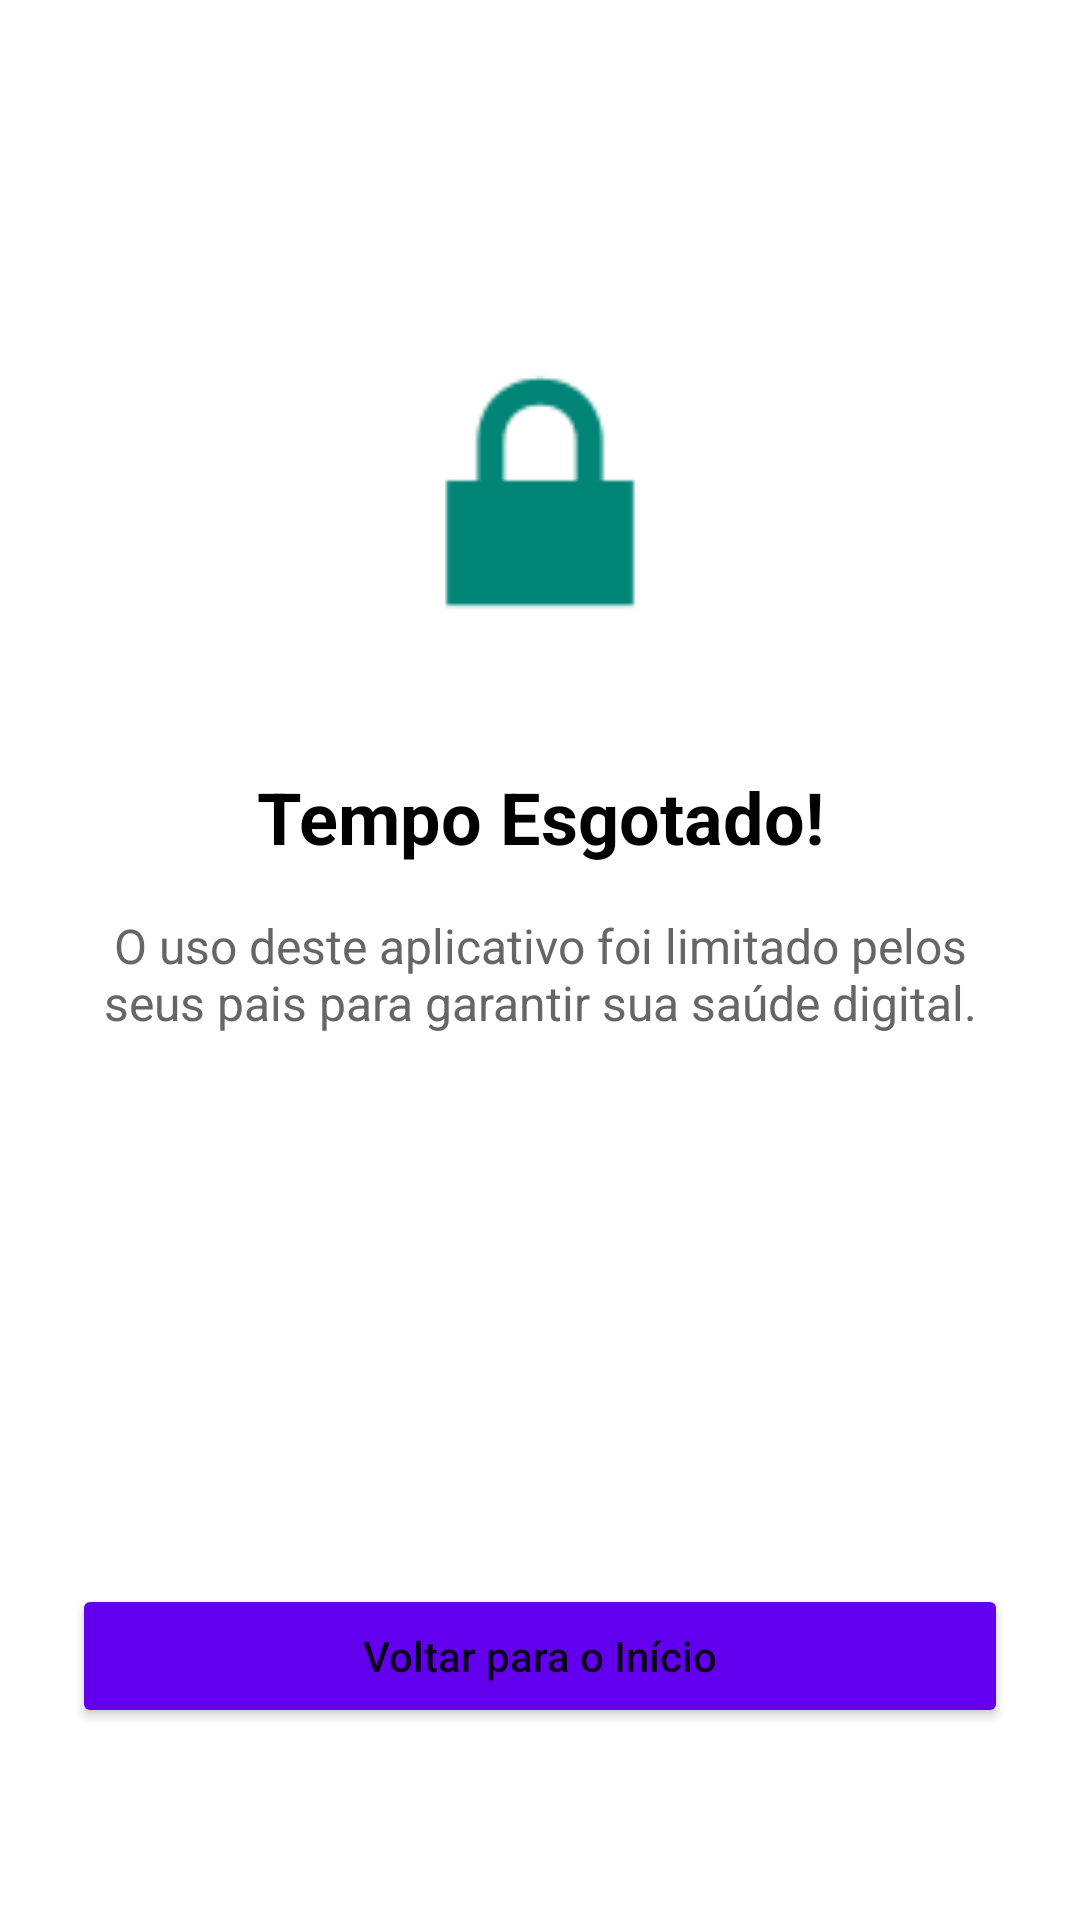

Locate icon controls on the screen. Image size 1080px×1920px, boxes as (x1, y1, x2, y2).
lock: (445, 376, 635, 608)
